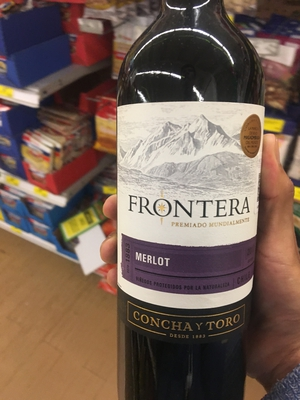frontera merlot: (114, 7, 266, 400)
